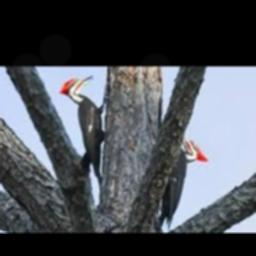Woodpecker: (61, 76, 109, 186), (159, 129, 209, 229)
